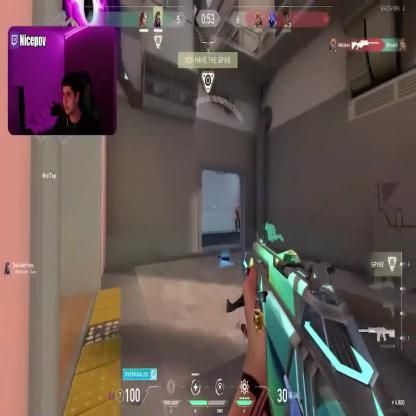enemy: (234, 203, 242, 233)
enemy_head: (237, 204, 240, 210)
